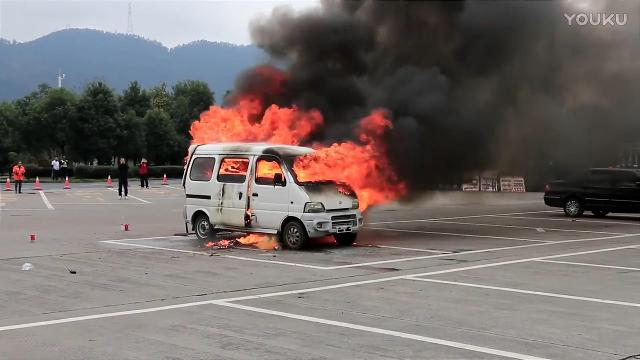fire: (351, 144, 385, 208), (190, 106, 247, 142), (265, 105, 299, 144), (320, 147, 350, 183), (294, 154, 324, 182), (358, 108, 382, 142), (385, 167, 401, 202), (254, 158, 282, 178), (218, 157, 246, 175), (240, 94, 262, 116), (245, 123, 265, 139), (235, 234, 262, 244), (300, 112, 312, 134), (311, 110, 321, 122)
